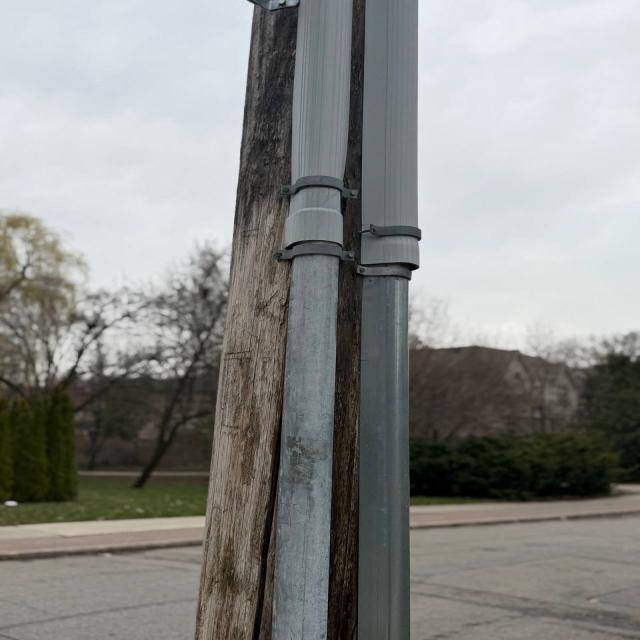Electrical Pole: (179, 0, 441, 640)
